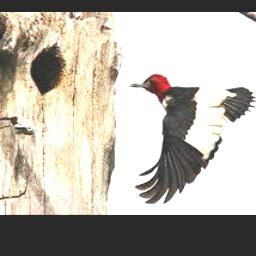Woodpecker: (130, 74, 256, 204)
